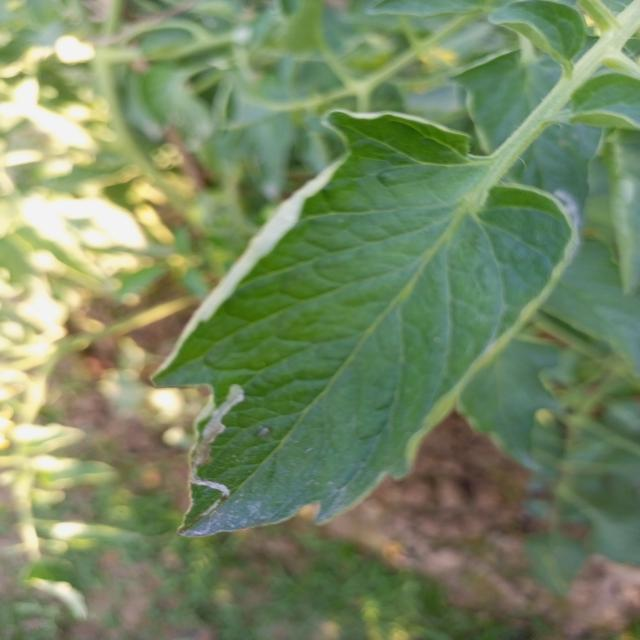Tuta absoluta: (186, 380, 246, 498)
